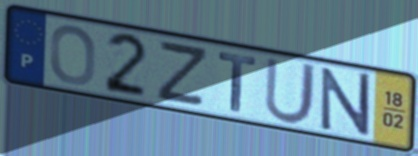2: (103, 31, 151, 101)
N: (319, 66, 373, 139)
O: (48, 23, 99, 87)
T: (216, 50, 258, 115)
U: (262, 55, 320, 127)
Z: (154, 40, 212, 110)
